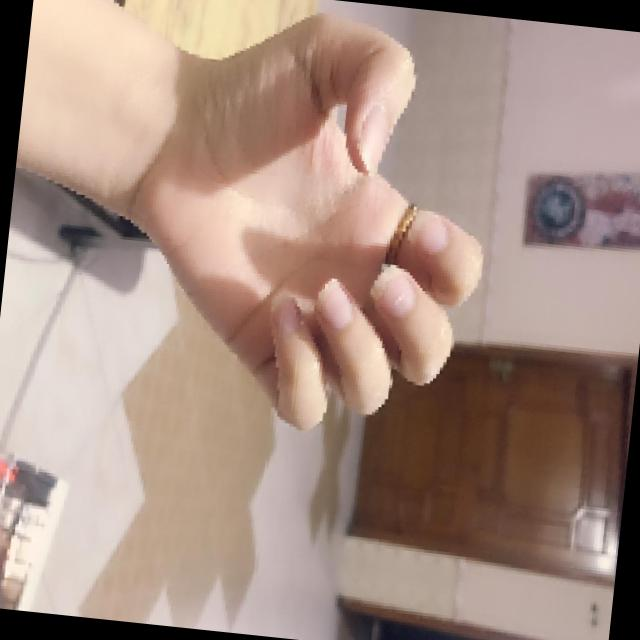Nail: (369, 265, 413, 316), (358, 105, 387, 172), (316, 277, 352, 328), (406, 210, 447, 254), (270, 290, 298, 331)
